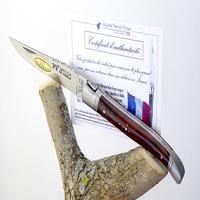knife: (4, 31, 189, 181)
